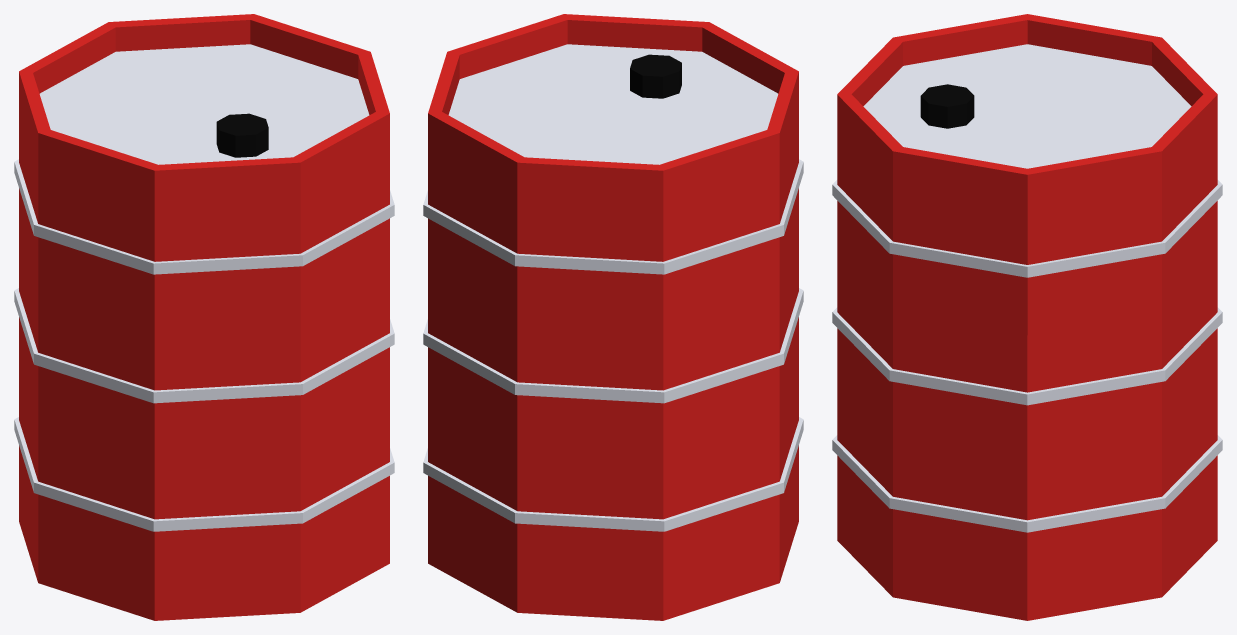
File: barril.fbx
The picture shows the model from 3 angles, left to right: view 1: azimuth 30°, elevation 25°; view 2: azimuth 150°, elevation 25°; view 3: azimuth 270°, elevation 25°; orthographic projection.
Visible parts, largest first — view 1: barril; view 2: barril; view 3: barril.
Boxes of the visible parts, x1=… form: barril: x1=14, y1=14, x2=394, y2=620; barril: x1=423, y1=14, x2=803, y2=620; barril: x1=832, y1=14, x2=1222, y2=620.
Size of the model in its own units: 85.47 by 108 by 85.47.
